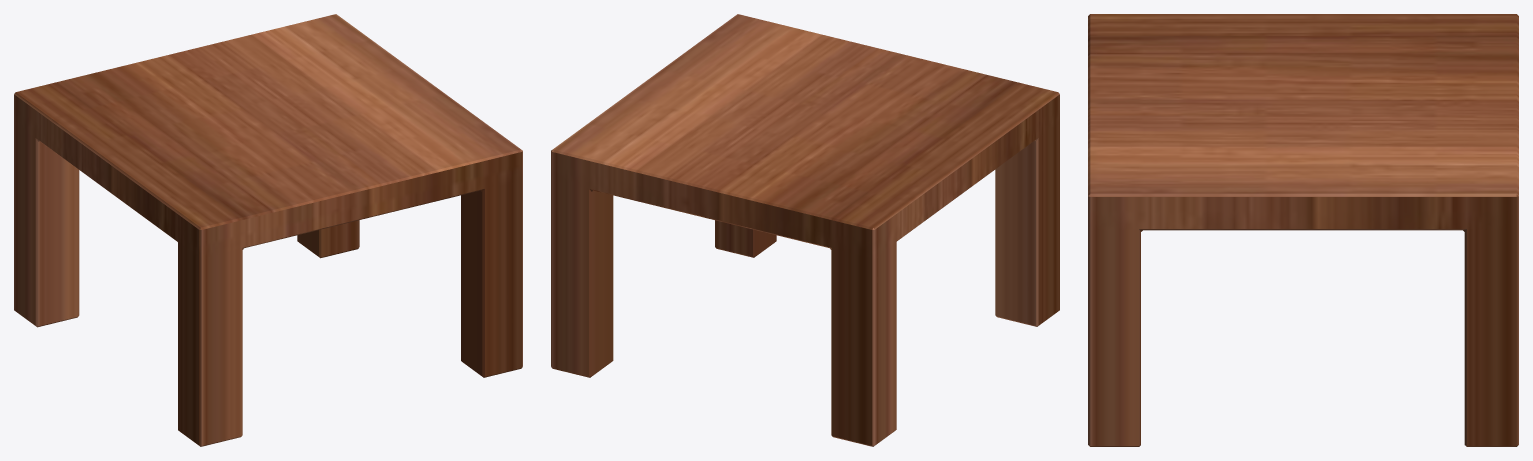
File: home_decoration.glb
The picture shows the model from 3 angles, left to right: view 1: azimuth 30°, elevation 25°; view 2: azimuth 150°, elevation 25°; view 3: azimuth 270°, elevation 25°; orthographic projection. The views are drawn at different scales.
Visible parts, largest first — view 1: Plane; view 2: Plane; view 3: Plane.
Boxes of the visible parts, box(x1,y1,x2,y2) form: Plane: box(14, 14, 522, 446); Plane: box(551, 14, 1059, 446); Plane: box(1088, 14, 1518, 446).
Bounding box in the file's own units: 0.8066 × 0.5221 × 0.8066.
1 material, 1 textured.
